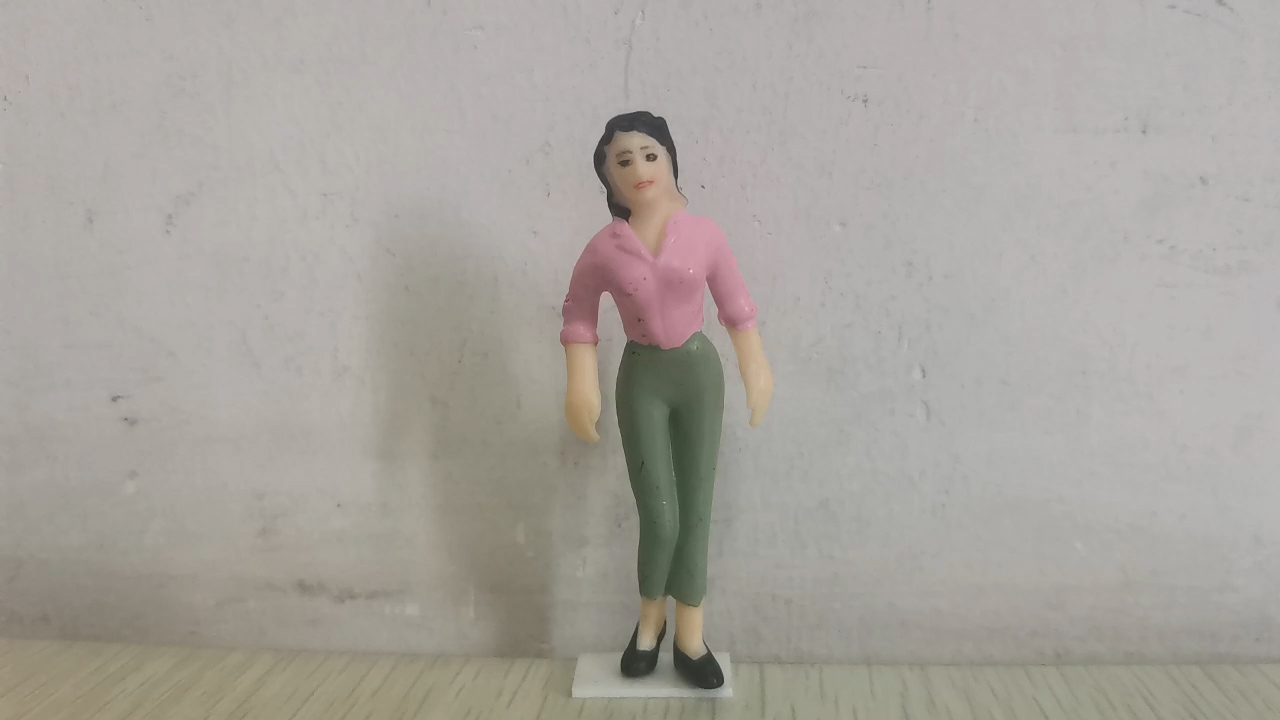person: (557, 108, 778, 692)
